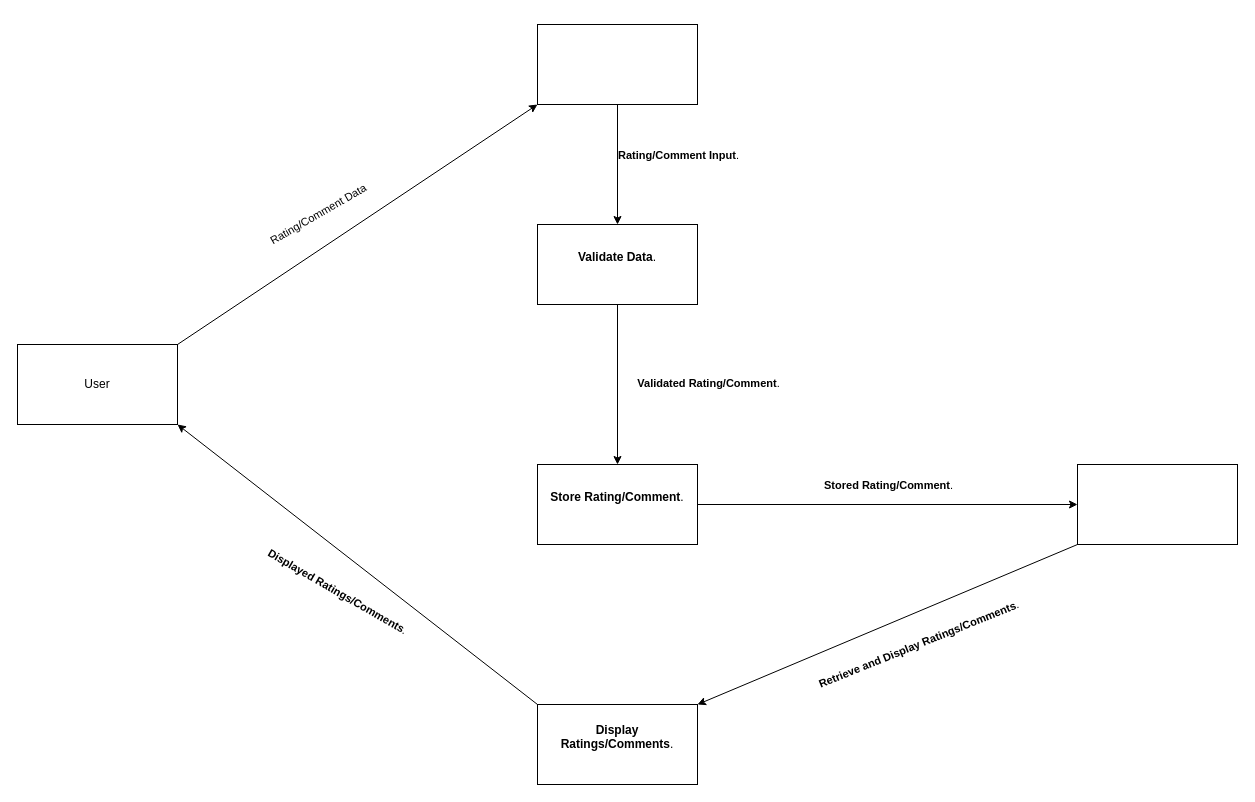
This 1255x802 diagram has some shape labels left out. The shapes that lost their labels are listed below. From the top down, each one's centre as x and y in pixels, then its label:
At (617,64): "Submit Rating/Comment .".
At (1157,504): "Recipe Database".
